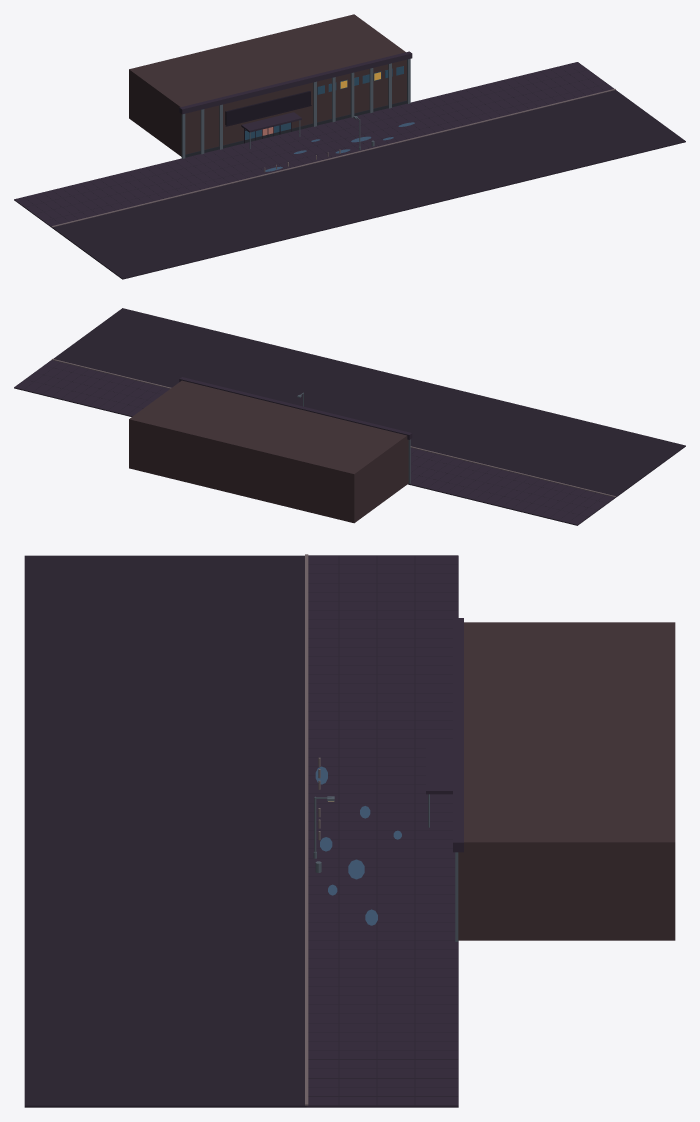
File: exterior.glb
The picture shows the model from 3 angles, top to bottom: view 1: azimuth 30°, elevation 25°; view 2: azimuth 150°, elevation 25°; view 3: azimuth 270°, elevation 25°; orthographic projection. The views are drawn at different scales.
Visible parts, largest first — view 1: Road, Facade, Pavement, Joints, Sign, Kerb, Canopy, Windows; view 2: Road, Facade, Pavement, Joints, Kerb; view 3: Road, Pavement, Facade, Joints, Kerb, Canopy, Puddles.
Part boxes in pixels (x1,y1,x2,y2): Road: (52, 90, 685, 279); Facade: (129, 14, 412, 158); Pavement: (14, 62, 613, 227); Joints: (14, 62, 613, 226); Sign: (225, 91, 310, 125); Kerb: (51, 89, 615, 227); Canopy: (241, 112, 301, 148); Windows: (317, 66, 403, 94); Road: (53, 308, 685, 497); Facade: (129, 377, 412, 523); Pavement: (14, 360, 615, 525); Joints: (15, 360, 614, 524); Kerb: (51, 359, 615, 497); Road: (24, 555, 306, 1107); Pavement: (306, 555, 458, 1107); Facade: (453, 618, 675, 941); Joints: (308, 555, 457, 1105); Kerb: (305, 554, 308, 1105); Canopy: (426, 739, 452, 827); Puddles: (315, 766, 401, 925).
Bounding box in the file's own units: 120 × 10.4 × 60.
